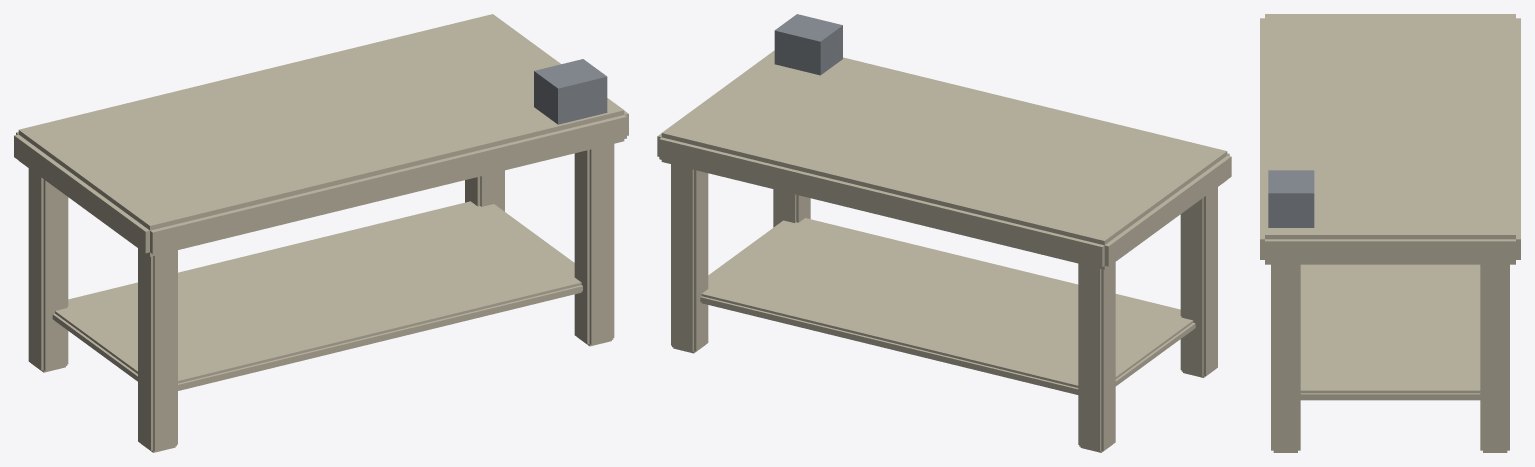
Rendered from bone_workbench_v0.glb.
3 views of the same model, side by side, from view 1: azimuth 30°, elevation 25°; view 2: azimuth 150°, elevation 25°; view 3: azimuth 270°, elevation 25° (orthographic). The views are drawn at different scales.
Visible parts, largest first — view 1: bone_workbench_v0; view 2: bone_workbench_v0; view 3: bone_workbench_v0.
Part boxes in pixels (x1=…): bone_workbench_v0: x1=14, y1=14, x2=628, y2=452; bone_workbench_v0: x1=657, y1=14, x2=1231, y2=452; bone_workbench_v0: x1=1260, y1=14, x2=1520, y2=452.
Size of the model in its own units: 1.96 by 1.04 by 0.96.
